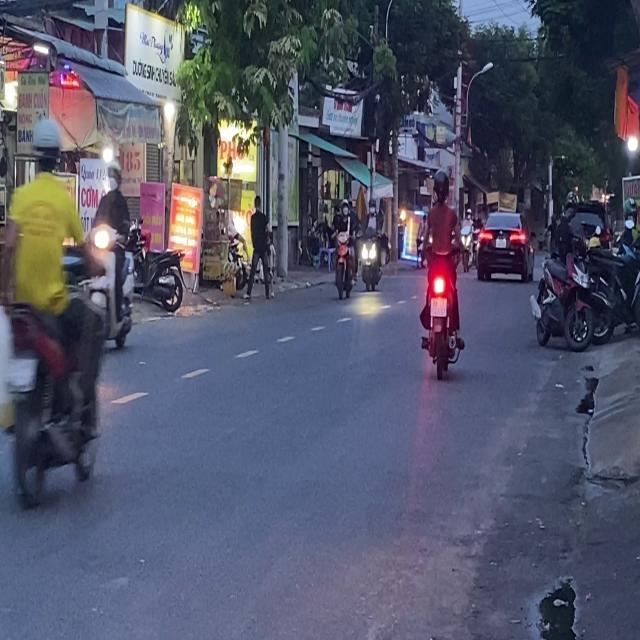helmet: (29, 115, 63, 177), (432, 169, 449, 202), (105, 159, 121, 190)
licenseplate: (0, 112, 108, 514), (417, 168, 466, 378), (87, 157, 137, 353)
nohelmet: (3, 359, 38, 391), (431, 296, 447, 316)
